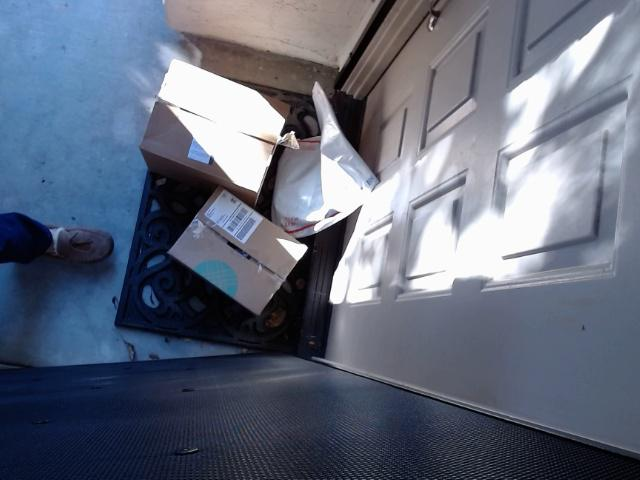box: (140, 59, 291, 206), (168, 186, 308, 317)
plastic_bag: (273, 82, 381, 238)
